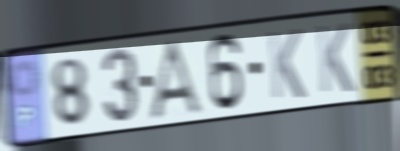3: (100, 45, 140, 124)
6: (206, 32, 245, 114)
8: (47, 55, 94, 128)
A: (147, 36, 208, 121)
K: (266, 26, 308, 102), (314, 20, 356, 96)
